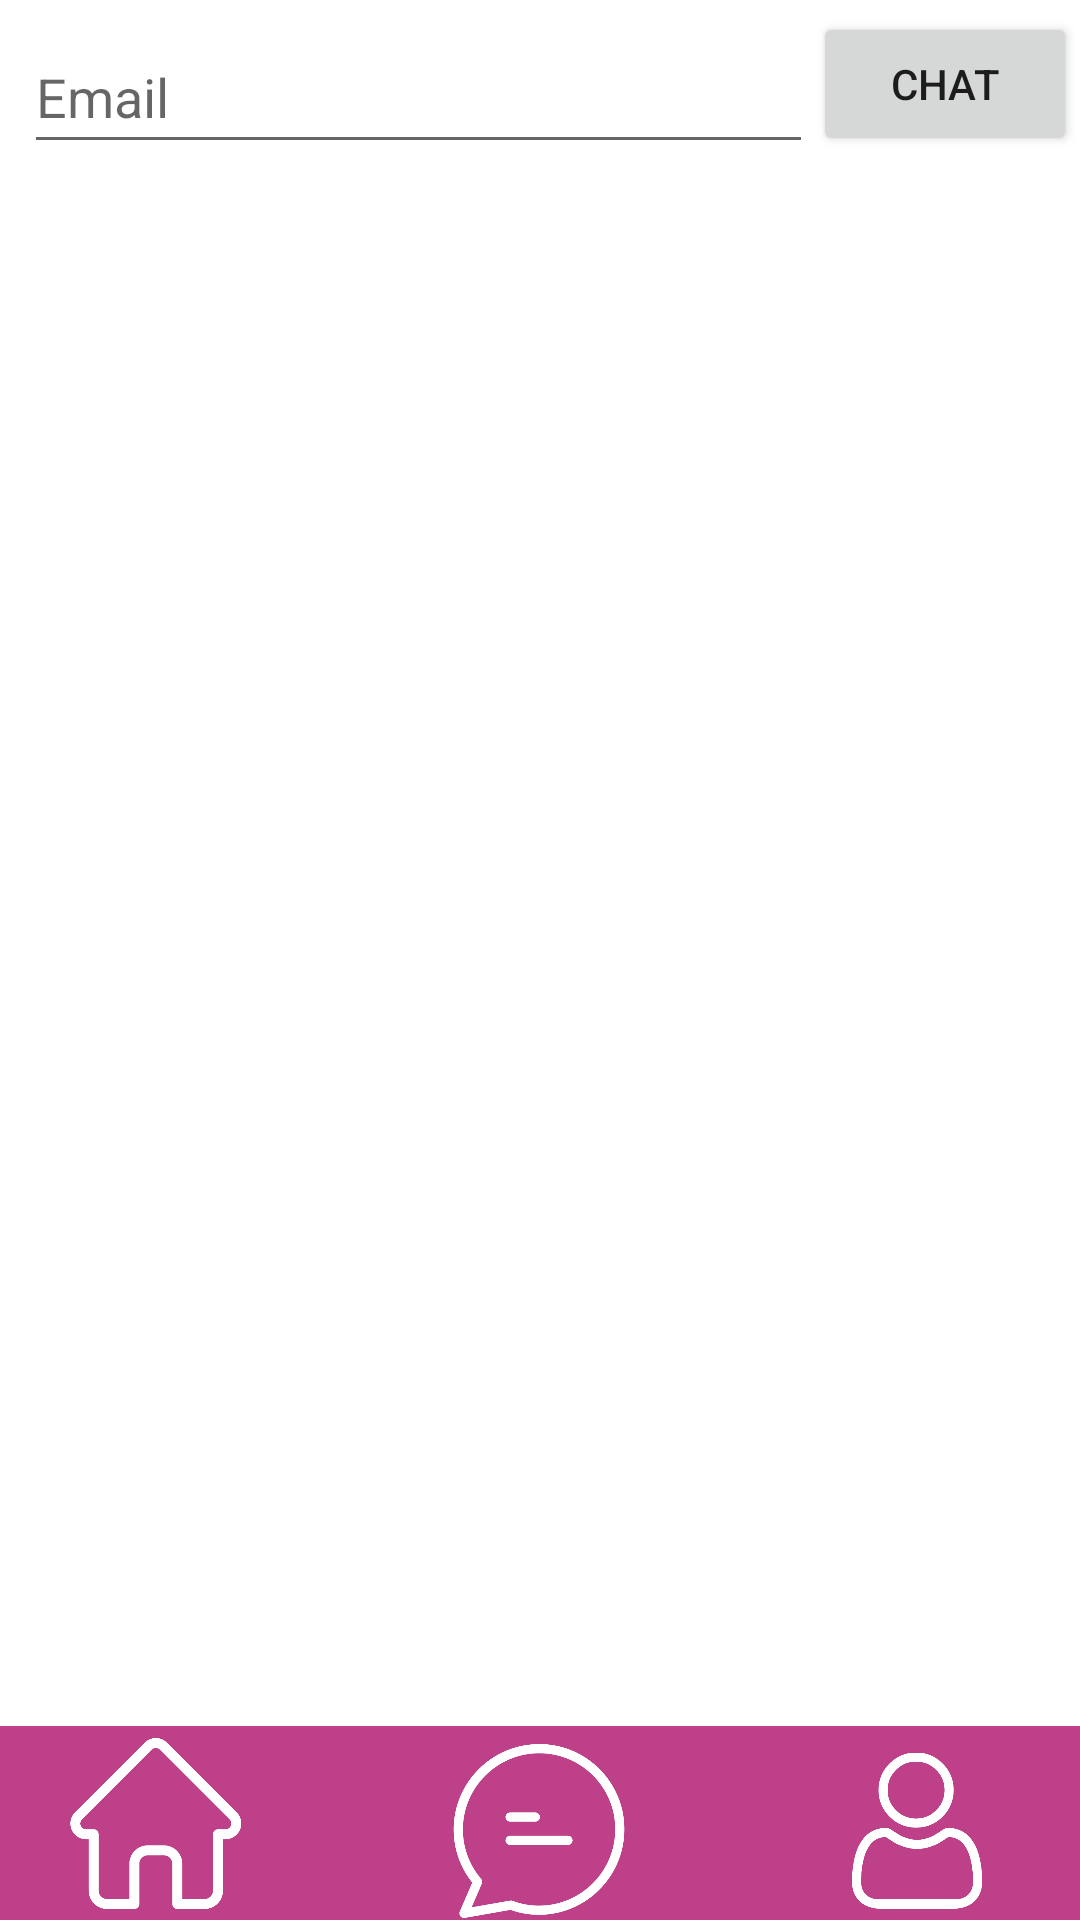

Locate icon controls on the screen. Image size 1080*1920, boxes as box(x1, y1, x2, y2).
casa: box(70, 1738, 241, 1909)
chat im: box(453, 1744, 625, 1918)
iconousuario: box(852, 1753, 982, 1909)
